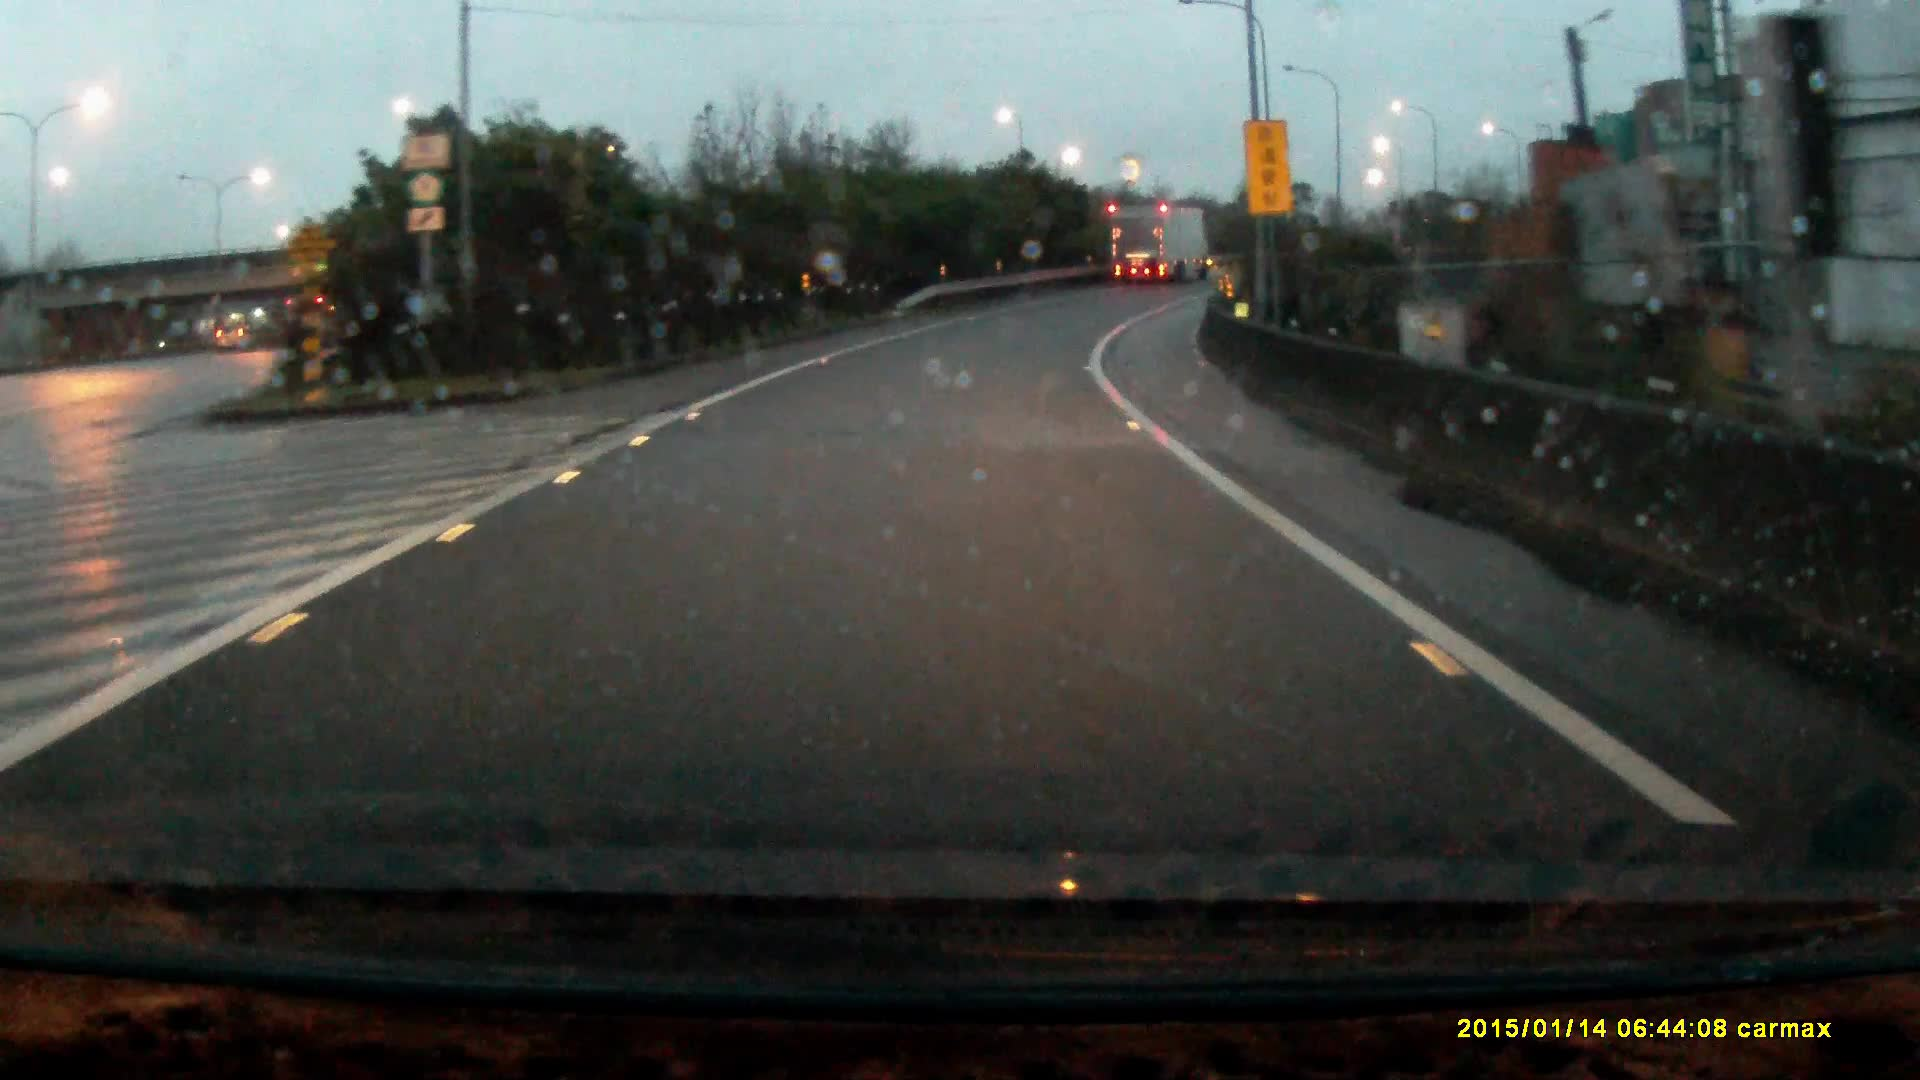vehicle: (1109, 203, 1209, 286), (218, 320, 256, 355)
